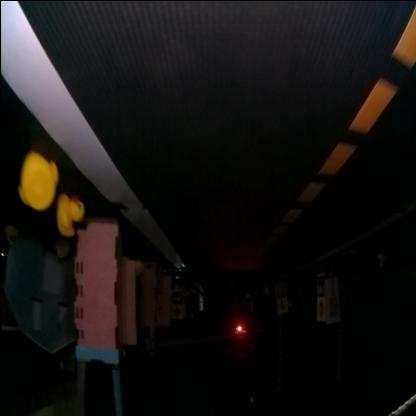Duckie: (18, 152, 58, 210), (56, 194, 84, 236)
Traffic light: (237, 324, 243, 332)
